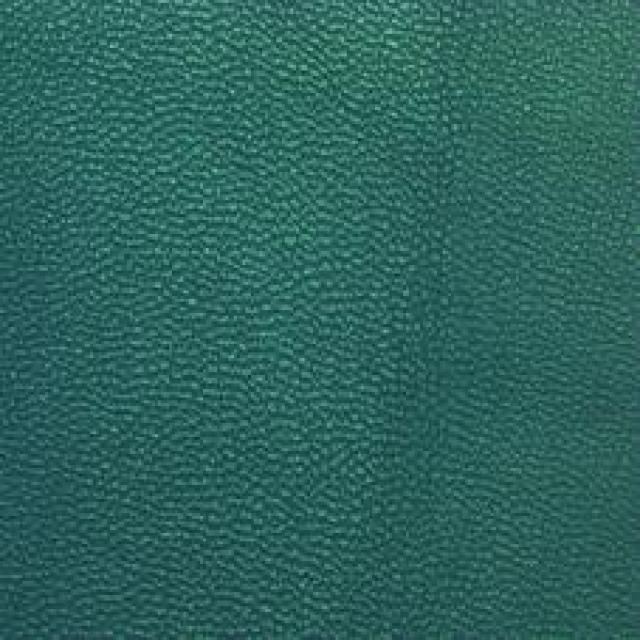Growth Marks: (359, 308, 524, 524), (378, 43, 524, 248)
